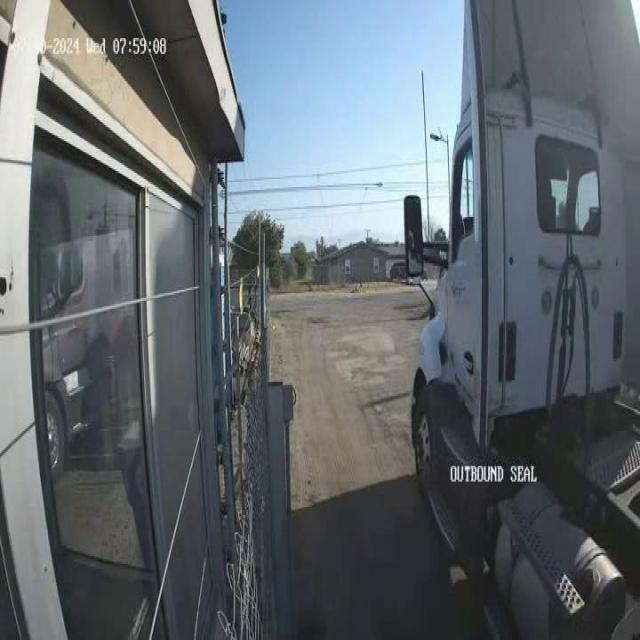TRUCK_OUT: (397, 0, 640, 637)
